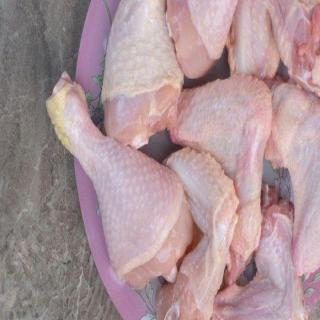Ayam: (44, 1, 320, 320), (45, 69, 199, 295), (166, 72, 275, 289), (101, 1, 188, 153)
